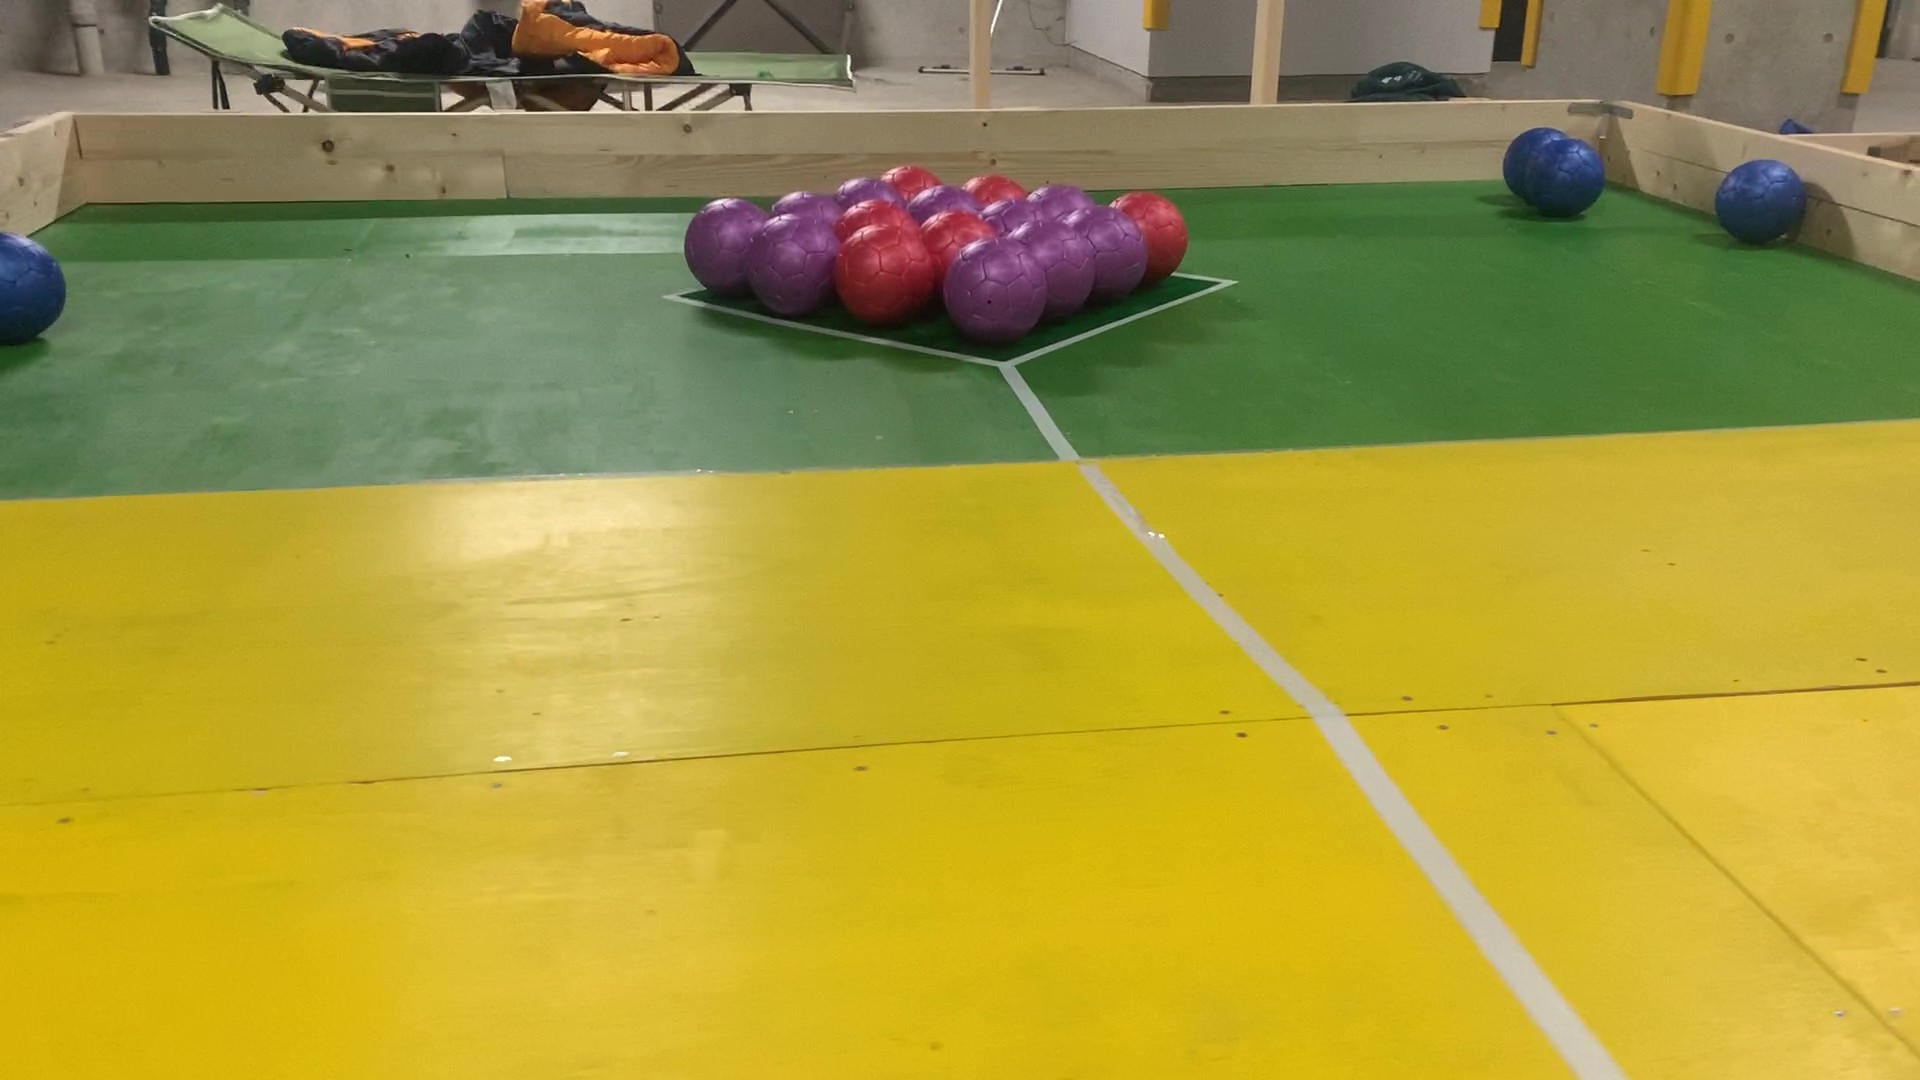blue: (1718, 167, 1797, 238), (9, 238, 57, 335), (1544, 149, 1595, 207), (1507, 128, 1531, 195)
purple: (763, 222, 832, 303), (955, 254, 1034, 321), (1035, 229, 1090, 306), (695, 211, 748, 289), (1093, 208, 1138, 287), (777, 192, 833, 216), (916, 192, 976, 211), (836, 179, 890, 199), (1035, 186, 1084, 208), (992, 207, 1040, 229)
red: (849, 234, 925, 311), (1144, 192, 1183, 271), (933, 217, 986, 247), (845, 201, 907, 225), (967, 177, 1023, 198), (893, 168, 936, 190)
